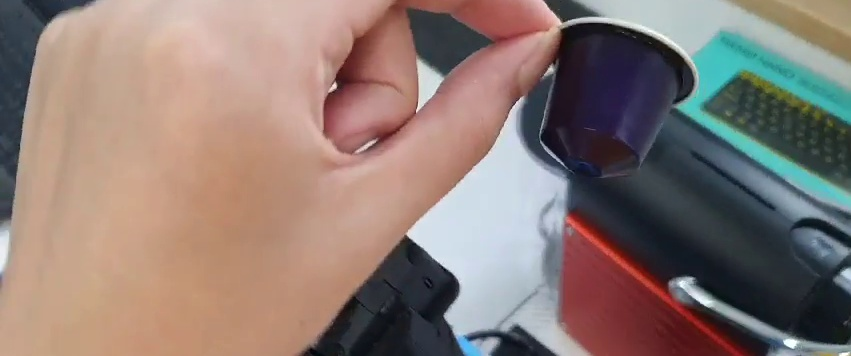capsule_2: (540, 18, 700, 180)
